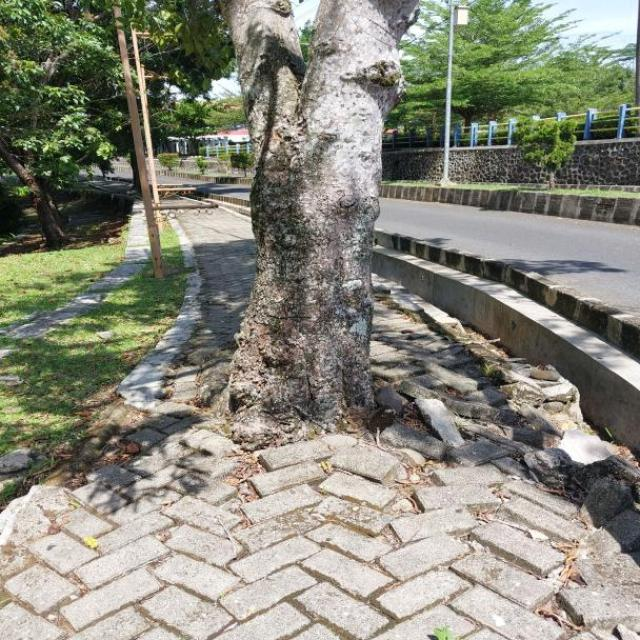tree ahead at: (220, 0, 410, 422)
